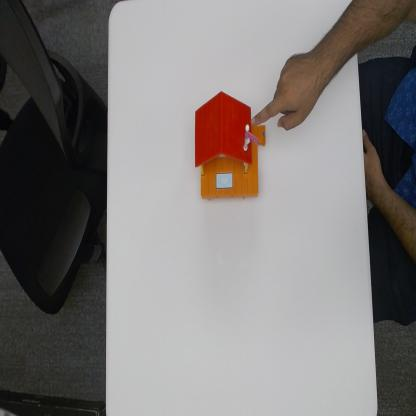Hand: (253, 43, 329, 132)
House: (193, 90, 267, 200)
